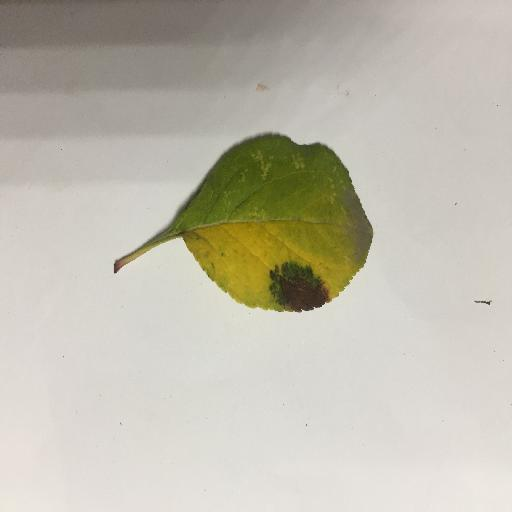Brown_Spot: (251, 260, 322, 312)
